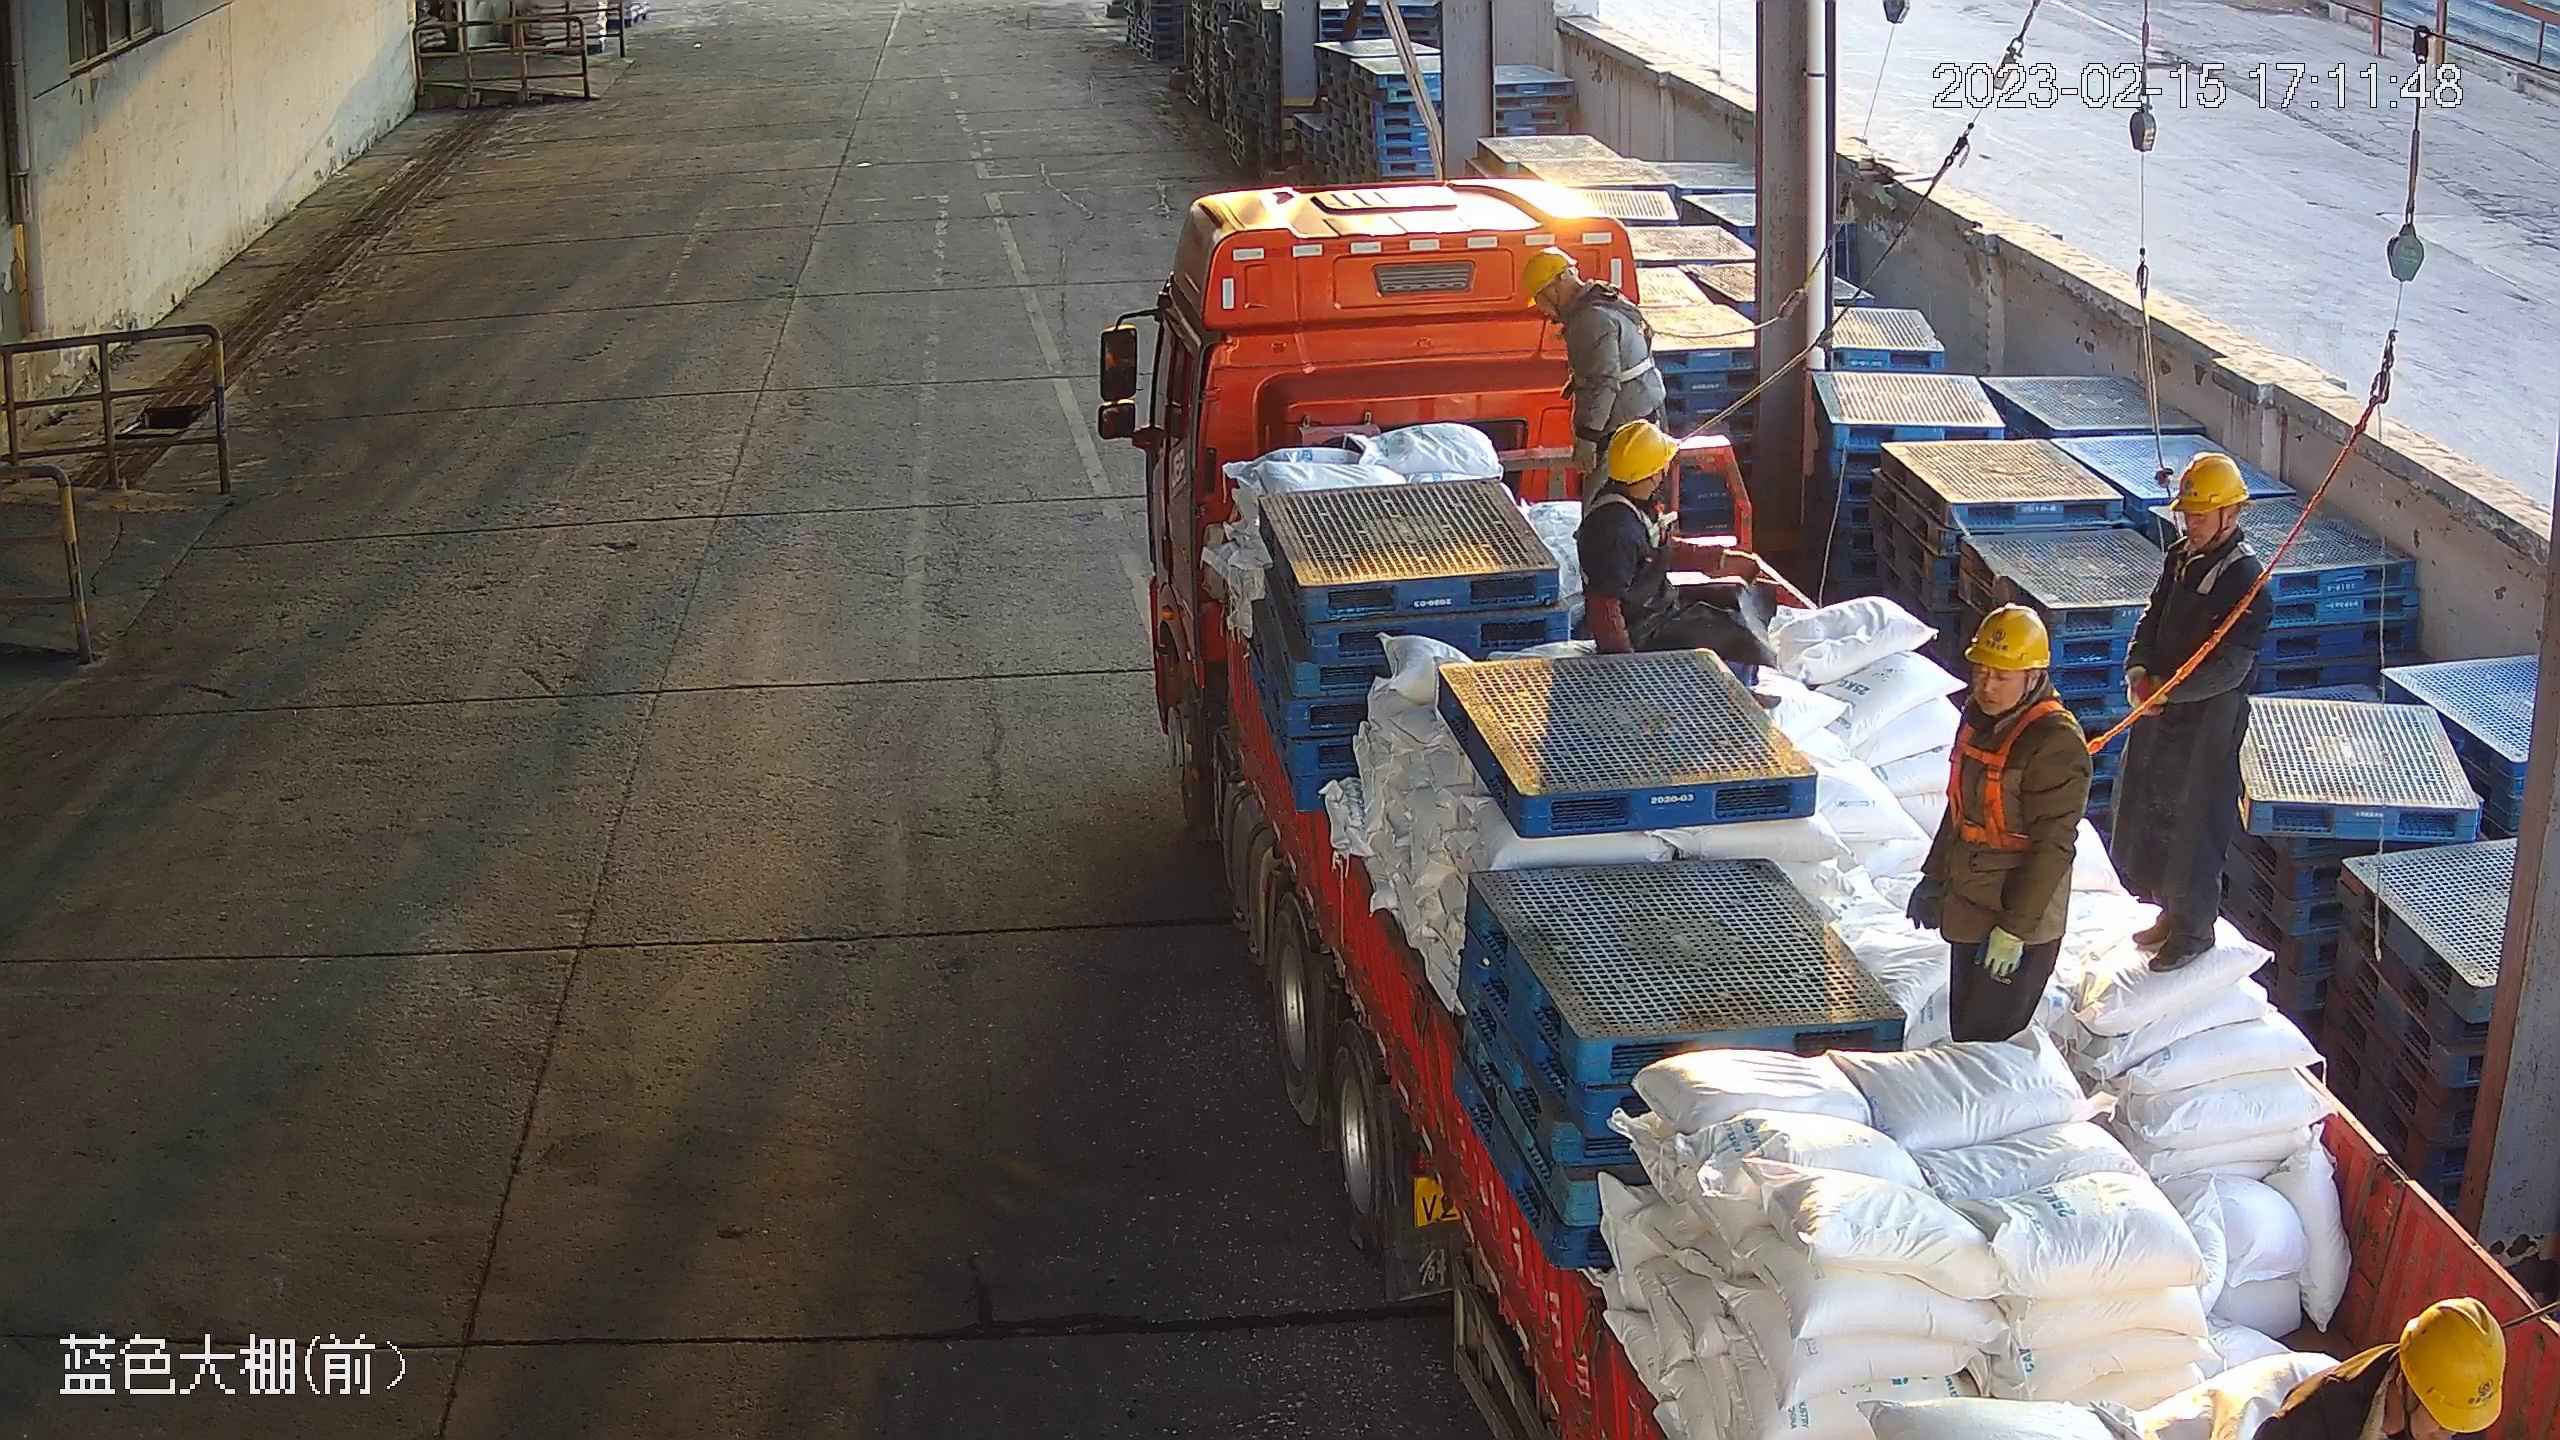belt: (1946, 699, 2116, 851), (1574, 479, 1661, 586), (1589, 280, 1673, 352), (2176, 540, 2259, 595)
head: (1953, 601, 2092, 773), (2142, 452, 2272, 613), (1580, 419, 1683, 565), (1521, 246, 1650, 356)
helmet: (2397, 1296, 2509, 1433), (1964, 602, 2053, 671), (2167, 450, 2251, 513), (1607, 419, 1683, 483), (1521, 246, 1579, 309)
people: (2111, 451, 2274, 974), (1905, 602, 2092, 1042), (1572, 418, 1780, 669), (1521, 245, 1667, 522)
truck: (1091, 173, 2560, 1440)
